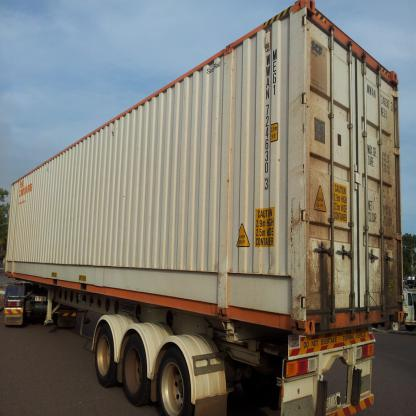Truck: (2, 0, 408, 415)
